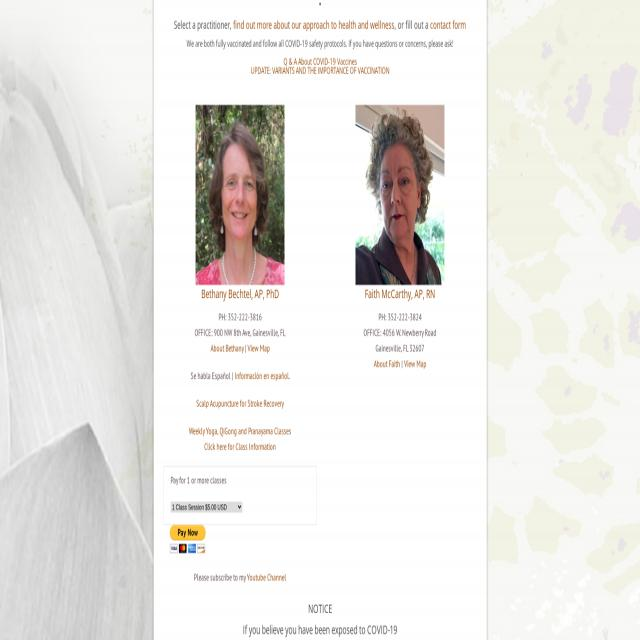button: (196, 106, 284, 286), (356, 106, 444, 286), (164, 525, 212, 553)
field: (170, 501, 242, 513)
